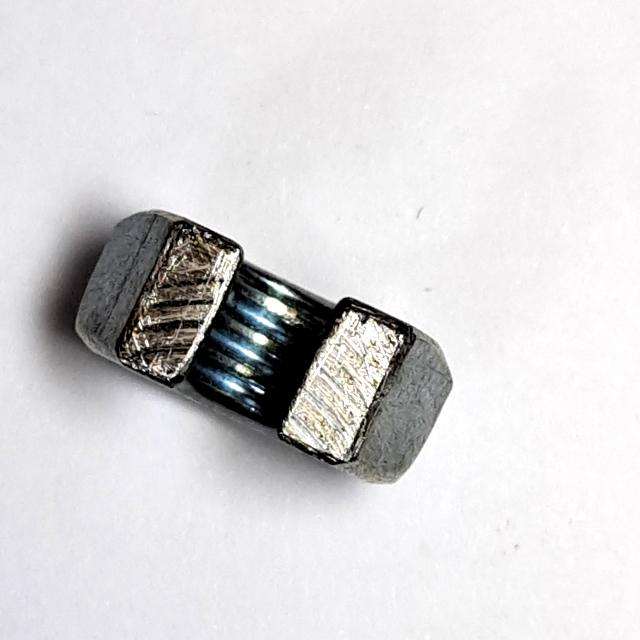Side-Fracture: (66, 192, 463, 497)
